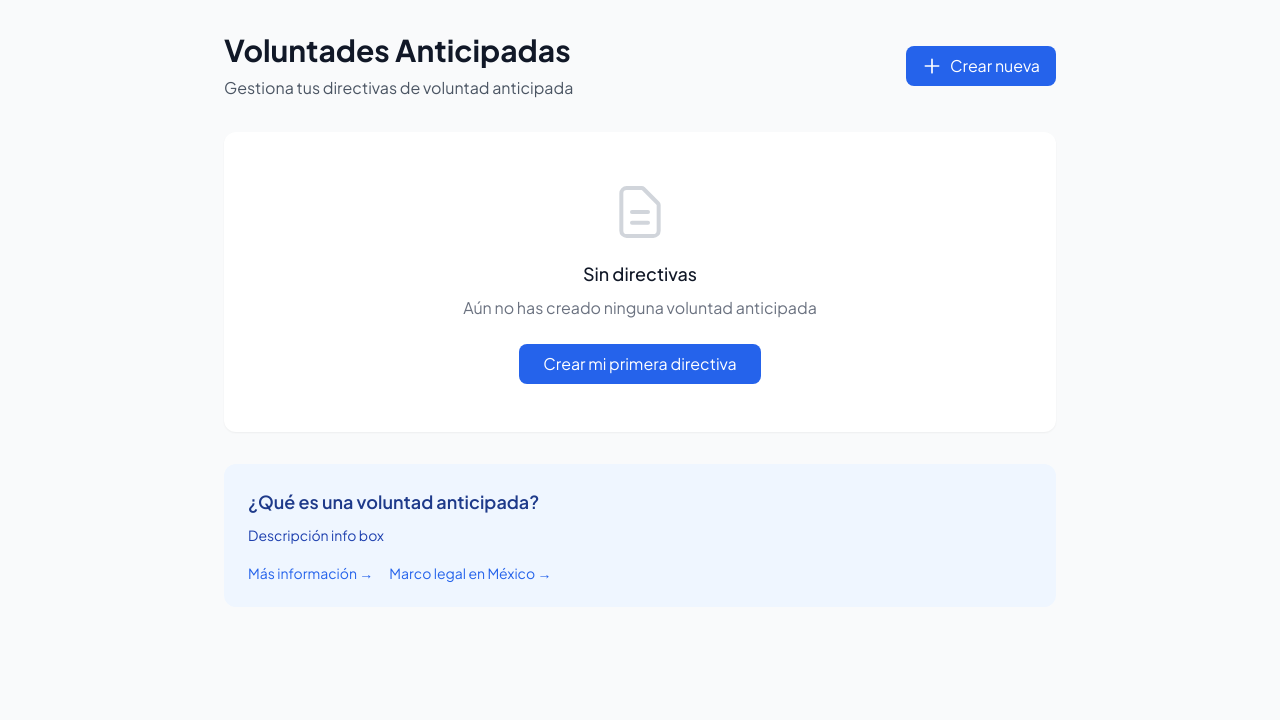
Test case: Directives – create modal › opens the create modal when clicking "Crear nueva"
This screenshot has width=1280, height=720.
Click the button "Crear nueva": [981, 66] box x1=906 y1=46 x2=1056 y2=86
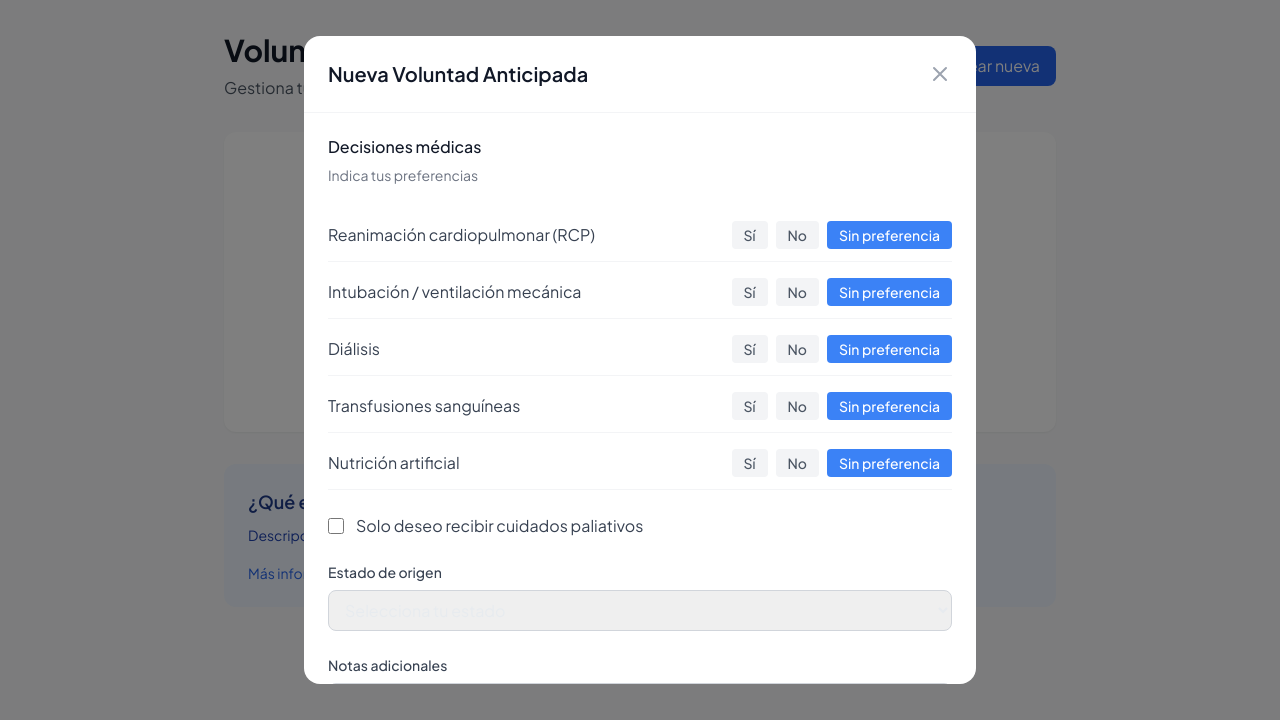
Result: the dialog "Nueva Voluntad Anticipada" is shown
